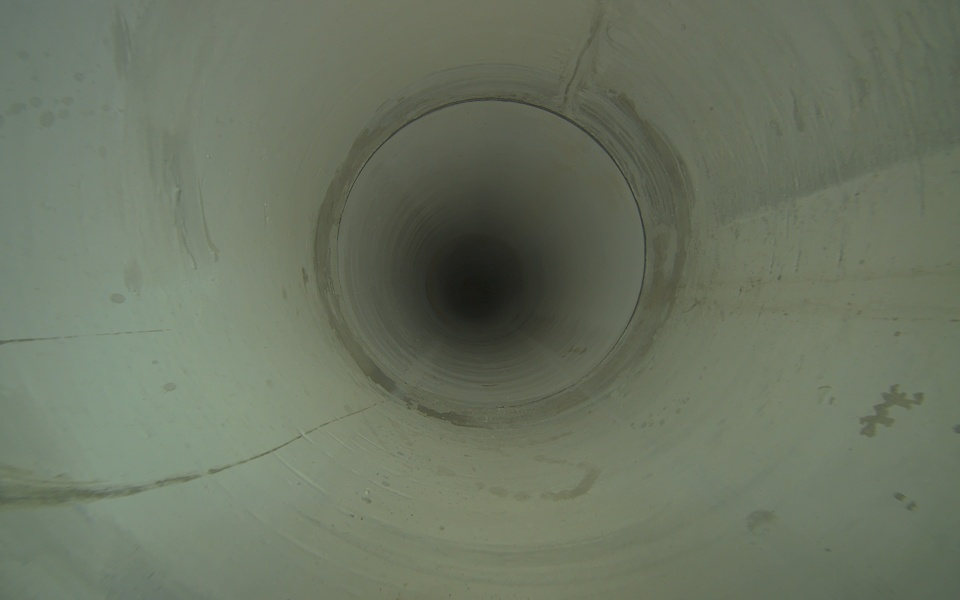circle1: (334, 96, 649, 414)
circle2: (446, 256, 508, 317)
